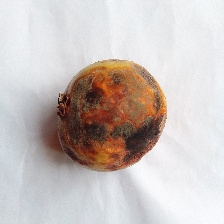guava: (37, 4, 190, 190)
